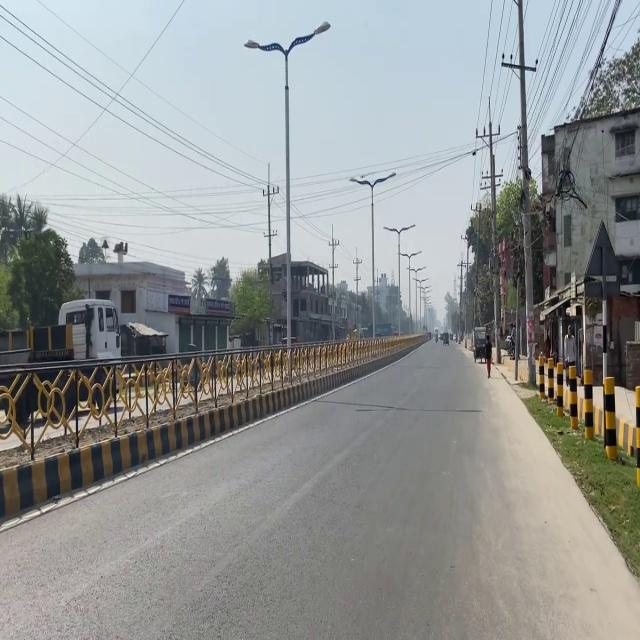Bench: (530, 352, 636, 456)
Garbage-bin: (563, 325, 577, 368), (484, 335, 492, 378)
Pole: (0, 354, 226, 530)
Traffic-cone: (0, 297, 123, 423)
